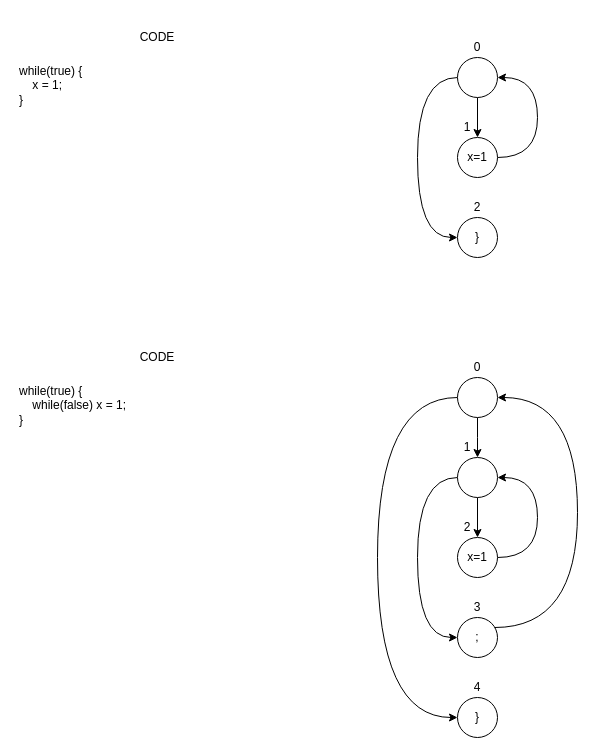
This 595x755 diagram has some shape labels left out. Each missing label, with the centre of its shape:
"while" belongs at point (477, 77).
"while (false)" belongs at point (477, 477).
"while (true)" belongs at point (477, 397).
